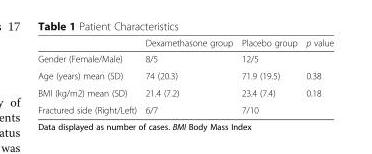table: (37, 37, 333, 114)
table column: (37, 37, 140, 114), (140, 37, 236, 114), (236, 37, 301, 114), (301, 37, 333, 114)
table column header: (37, 37, 333, 50)
table row: (37, 66, 333, 83), (37, 83, 333, 100), (37, 50, 333, 66), (37, 100, 333, 114), (37, 37, 333, 50)
